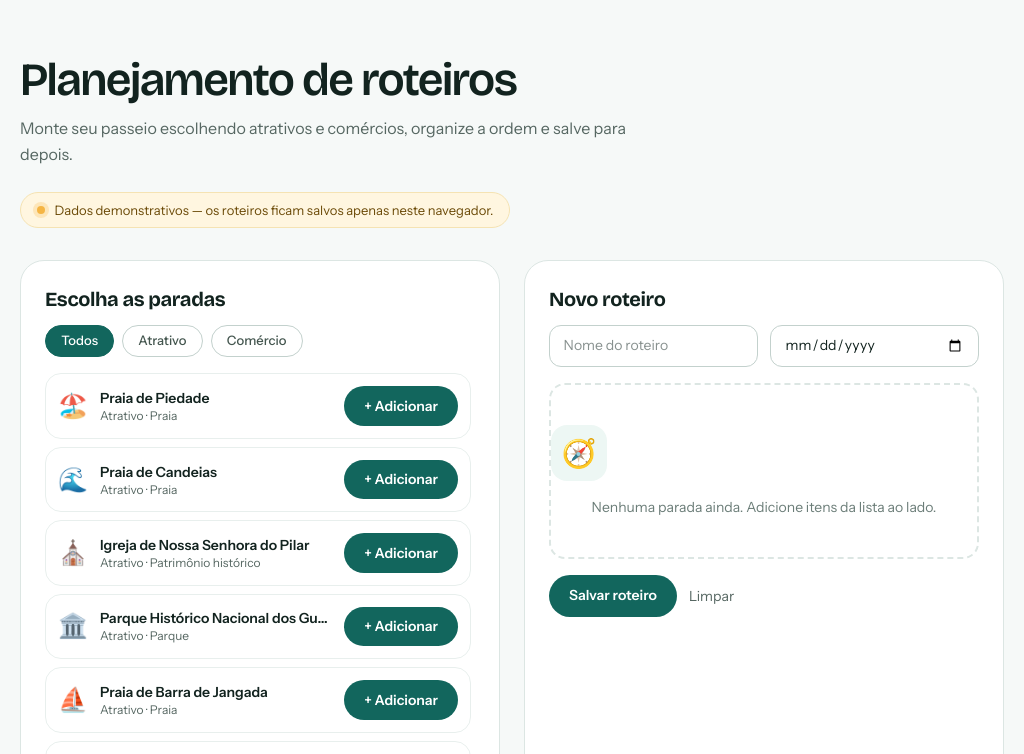
Tela de Roteiros › não salva um roteiro sem paradas
Type "Meu passeio" into the field with placeholder "Nome do roteiro" at (654, 346), box [549,325,758,367]
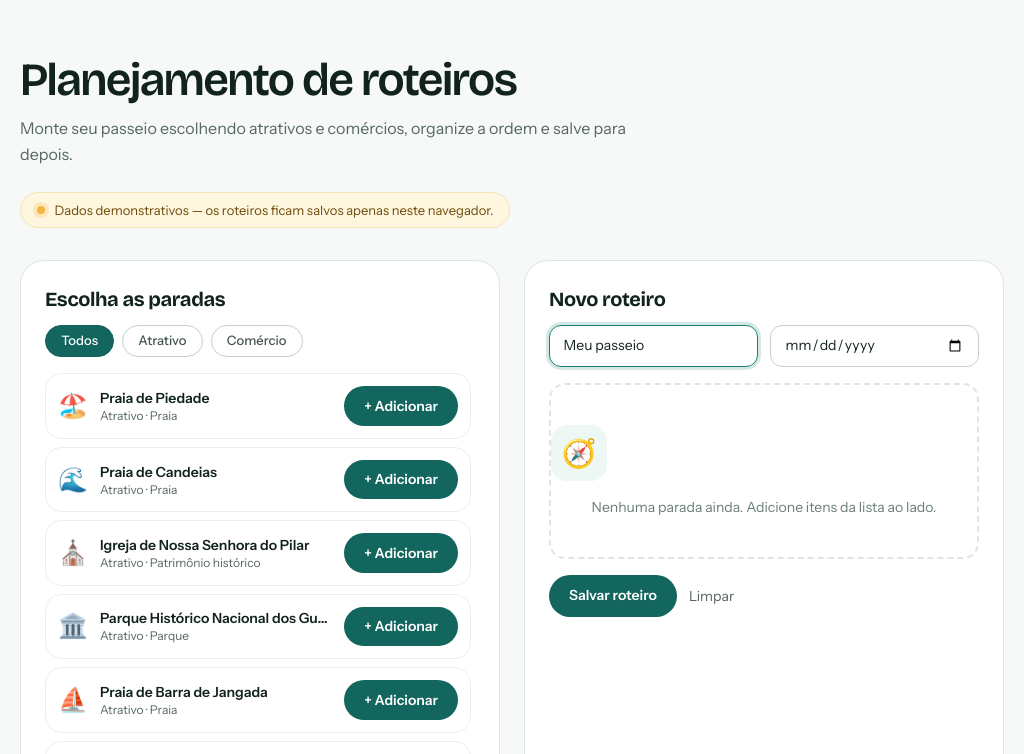
Click the button "Salvar roteiro" at (613, 596), box [549,575,677,617]
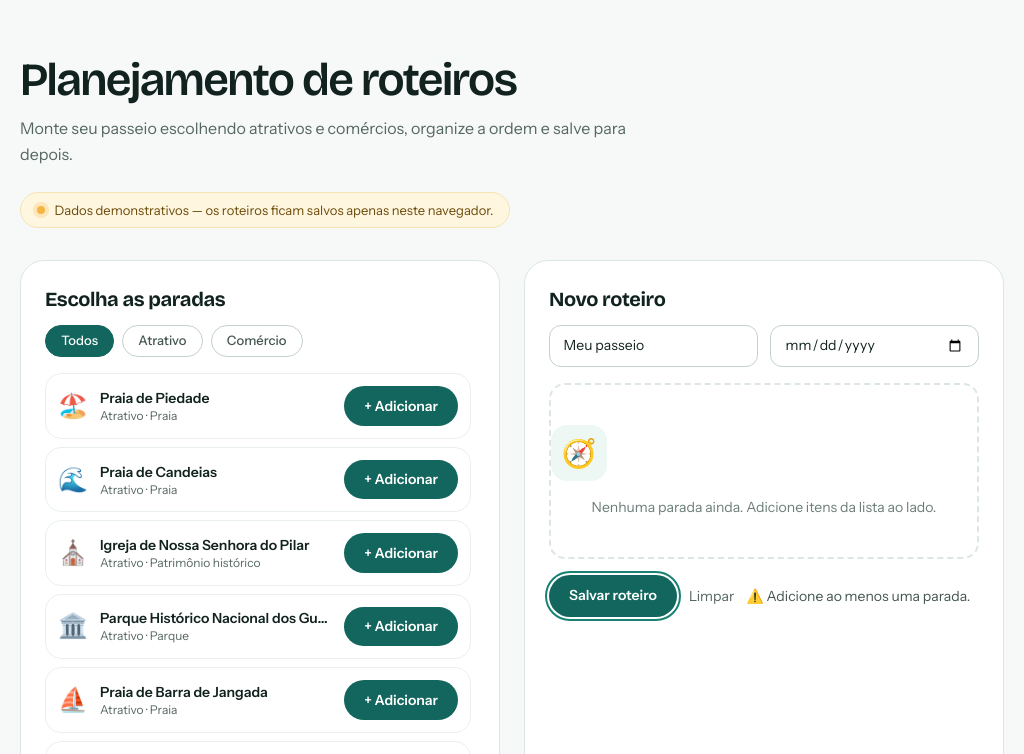
Check: the text "⚠️ Adicione ao menos uma parada." is shown, box [746,586,970,606]
